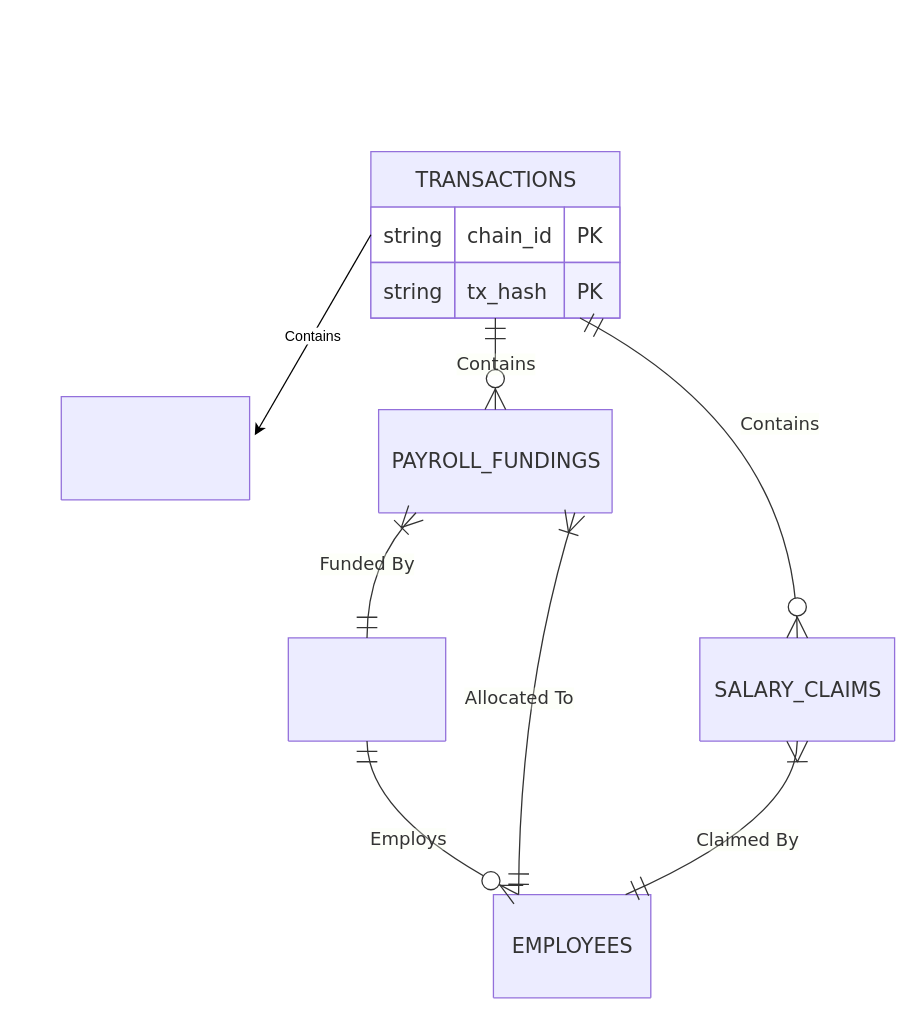
This 917x1020 diagram has some shape labels left out. The centre of each missing label's shape, as x and y in pixels:
CHAIN_EVENTS: the point at 155,447
EMPLOYERS: the point at 366,689
